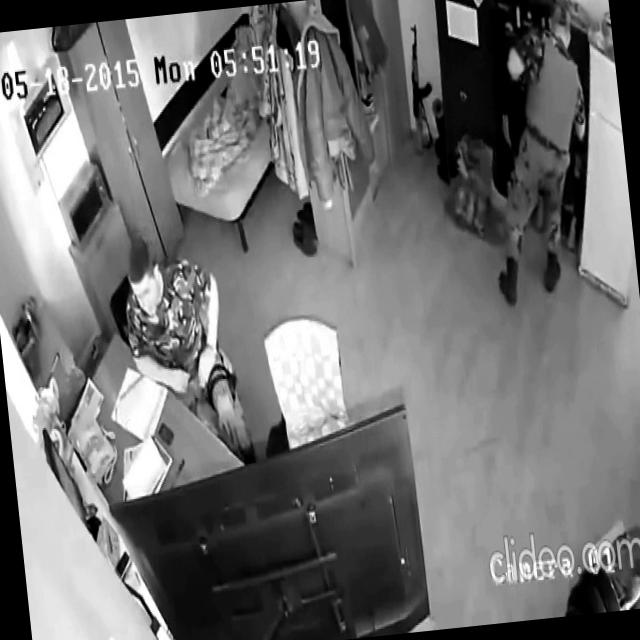gun: (402, 19, 440, 158)
person: (469, 0, 606, 308), (116, 222, 258, 475)
